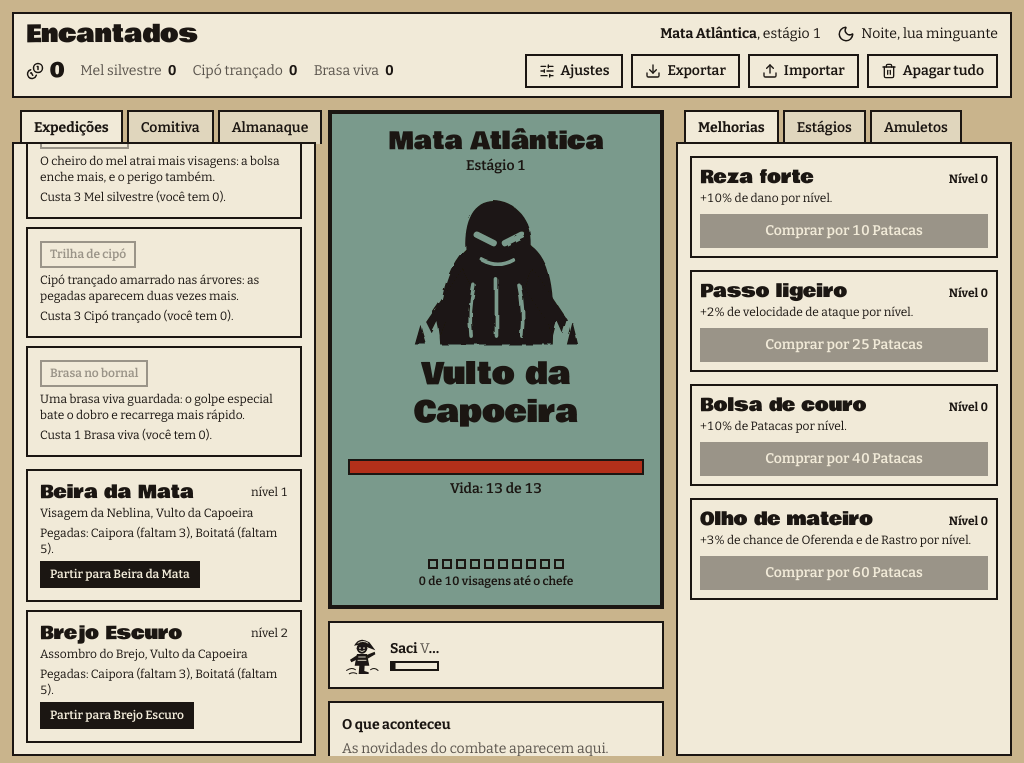
Test case: aba Expedições da clareira › mostra quem sai e os mapas, e troca para a tela da expedição ao partir
(page scrolled)
Click the button "Partir para Beira da Mata".
click(120, 574)  # box [40,560,200,588]
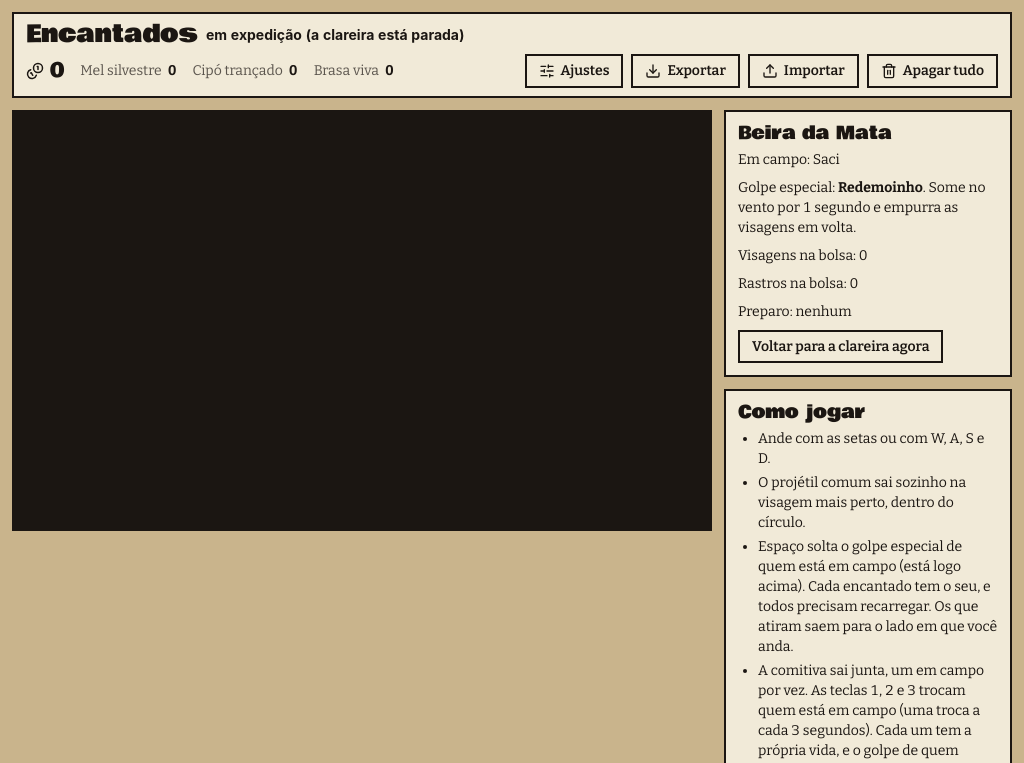
Now the picture named "Mapa da expedição. Ande com as setas ou com W, A, S e D." is shown, box [12,110,712,531]
Now the text "Em campo: Saci" is shown, box [738,150,840,168]
Now the text "Golpe especial: Redemoinho." is shown, box [738,178,998,238]
